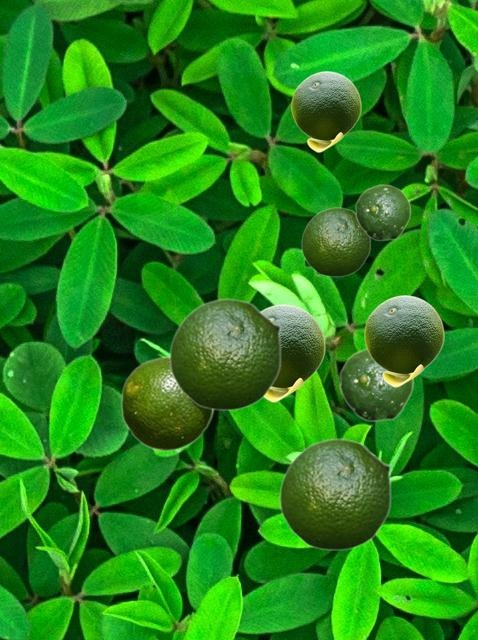calamansi: (169, 298, 281, 410), (279, 438, 391, 550), (120, 356, 213, 450), (364, 295, 443, 386), (261, 304, 324, 401), (291, 71, 360, 151), (339, 348, 413, 421), (301, 207, 370, 276), (355, 184, 410, 240)
